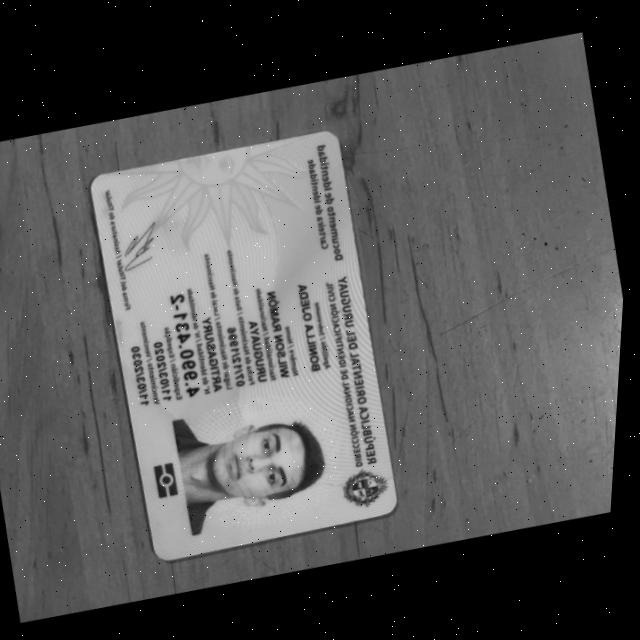card: (91, 133, 395, 560)
